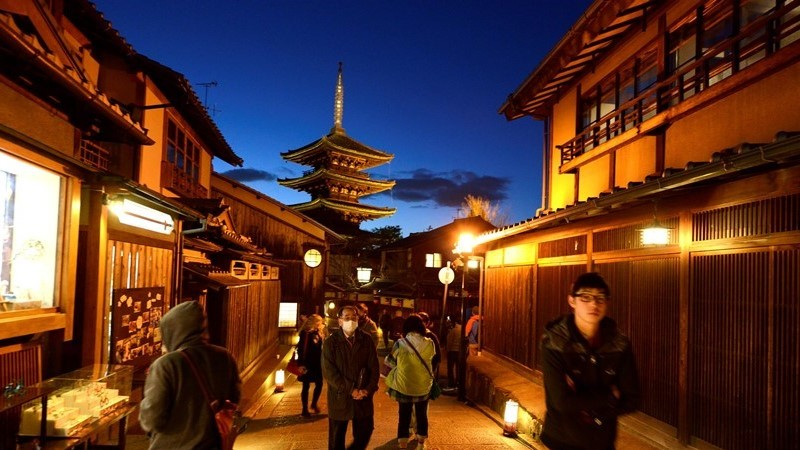people: (546, 274, 639, 450), (145, 305, 239, 450), (327, 308, 378, 450), (391, 317, 435, 450), (295, 314, 329, 417), (445, 315, 462, 384), (464, 308, 481, 359)
